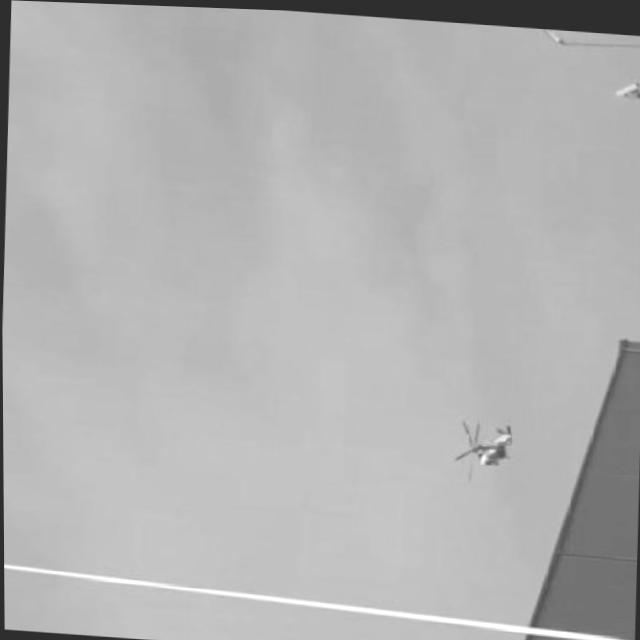helikopter: (443, 409, 523, 474)
